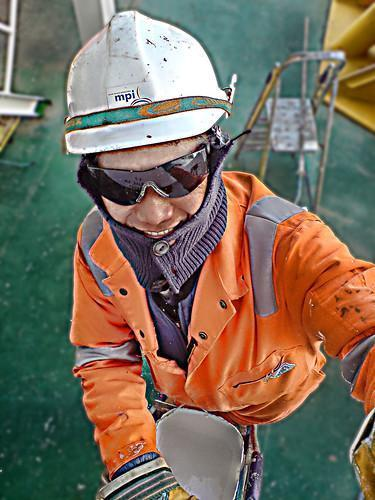vest: (69, 168, 374, 486)
